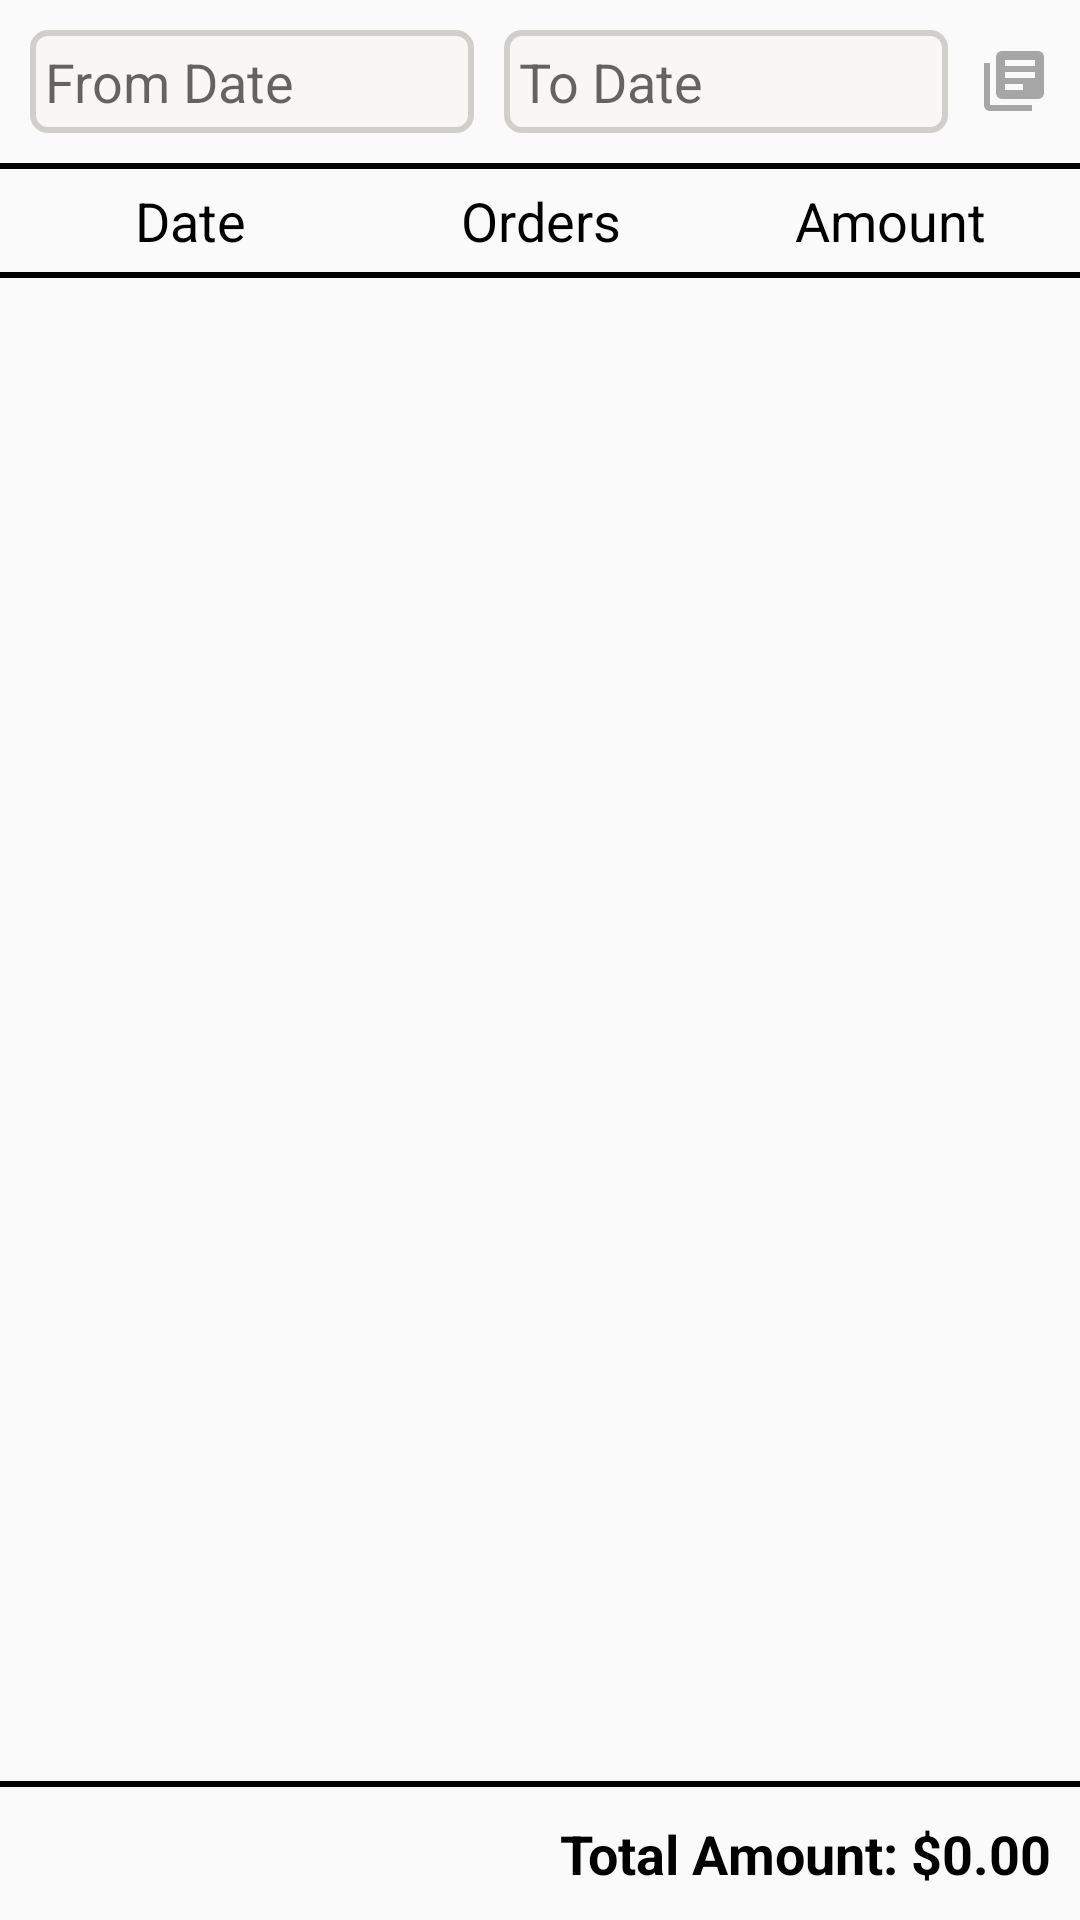

Named icons in this screenshot (1080×1920) and their bounding boxes, (x1, y1, x2, y2):
orders summary: (984, 51, 1044, 111)
